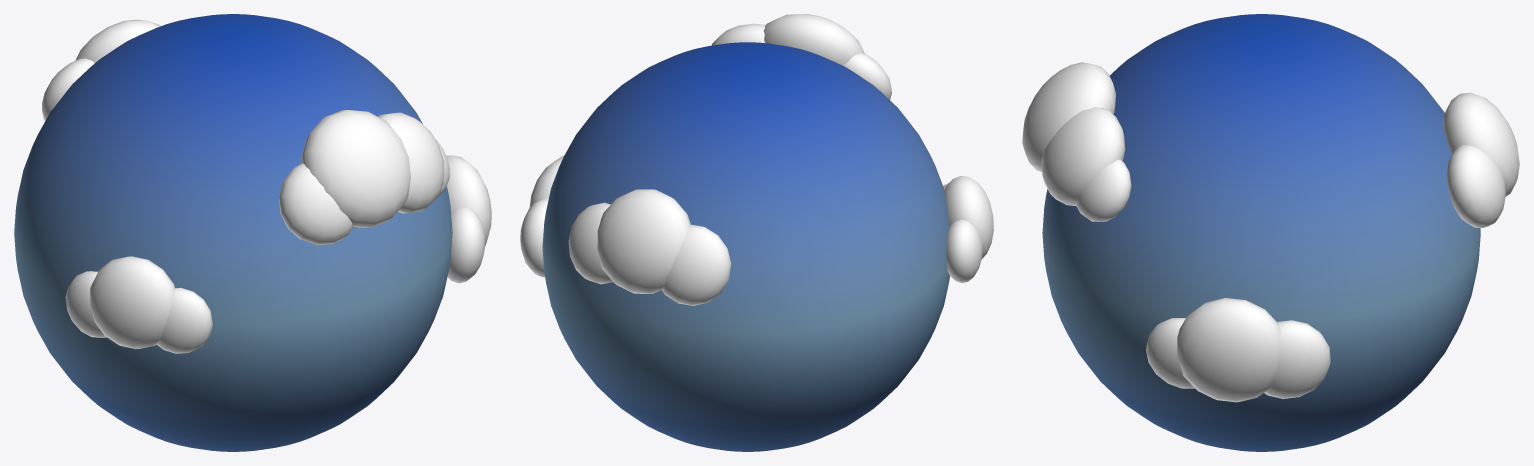
Rendered from skybox.glb.
3 renders of one model, left to right at view 1: azimuth 30°, elevation 25°; view 2: azimuth 150°, elevation 25°; view 3: azimuth 270°, elevation 25°, orthographic. The views are drawn at different scales.
Visible parts, largest first — view 1: SkySphere, Clouds; view 2: SkySphere, Clouds; view 3: SkySphere, Clouds.
Part boxes in pixels (x1,y1,x2,y2): SkySphere: [14, 14, 452, 451]; Clouds: [42, 19, 491, 353]; SkySphere: [542, 42, 949, 451]; Clouds: [520, 14, 993, 305]; SkySphere: [1042, 14, 1480, 451]; Clouds: [1022, 62, 1519, 402].
Size of the model in its own units: 1.16 by 1 by 1.13.
